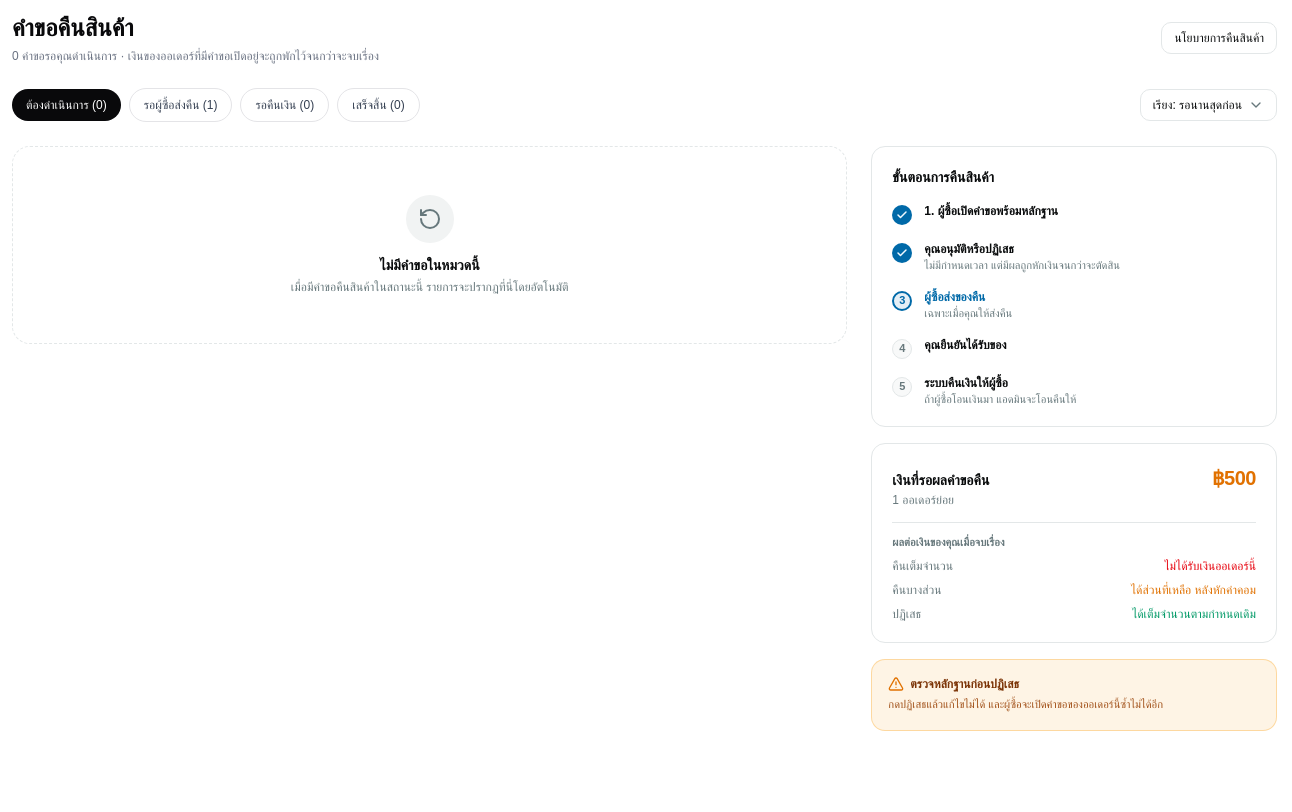
after sales screens › shows readable return statuses and switches tabs client-side
The width and height of the screenshot is (1292, 812).
Click the button "รอผู้ซื้อส่งคืน (1)".
click(181, 105)  # box [129,88,232,122]
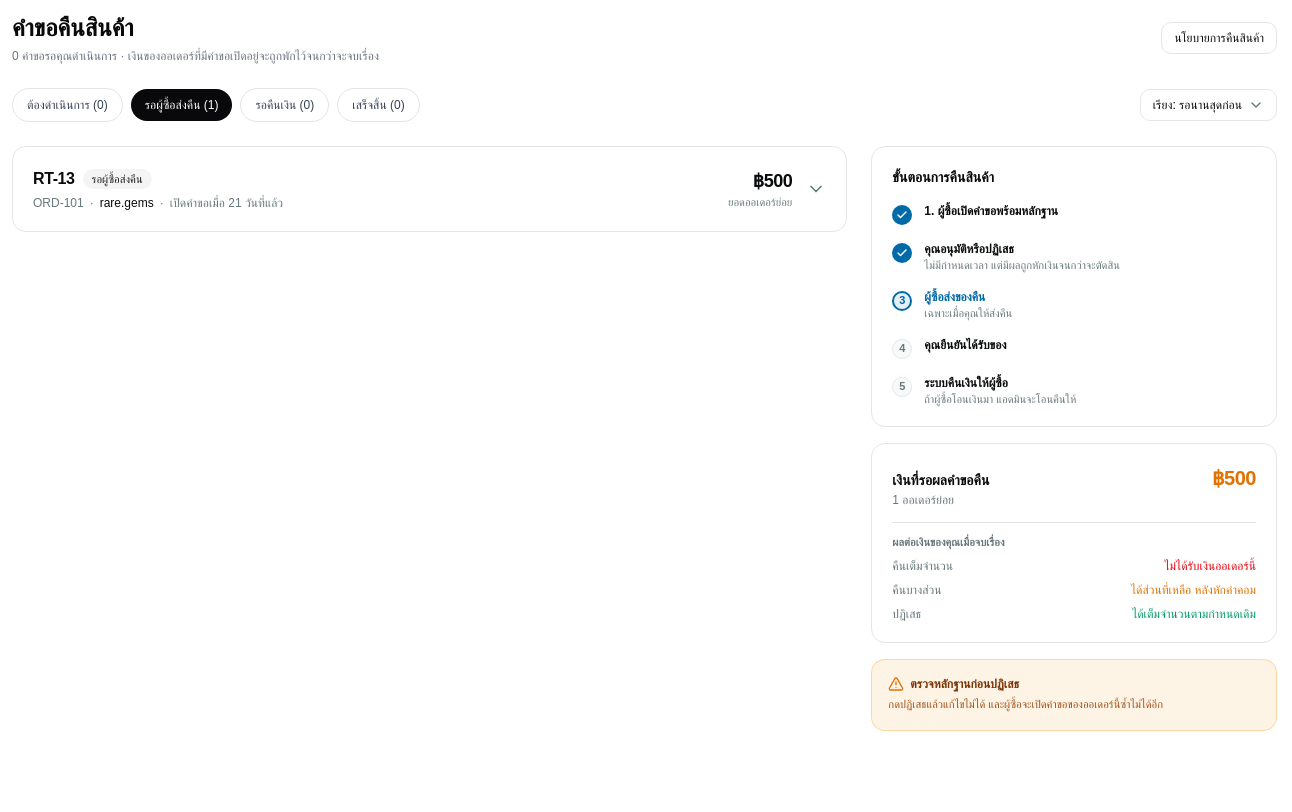
Result: the text "RT-13" is shown at [33,167,75,191]
Result: the text "รอผู้ซื้อส่งคืน" is shown at [83,169,152,189]
